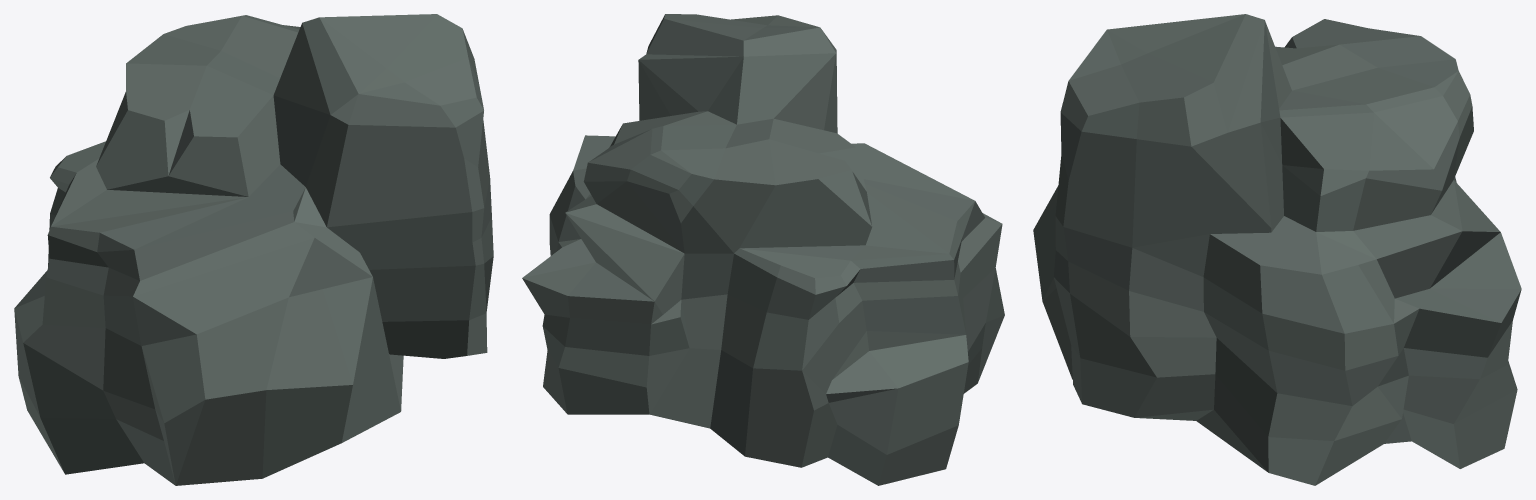
File: SM_Rock_B.glb
3 views of the same model, side by side, from view 1: azimuth 30°, elevation 25°; view 2: azimuth 150°, elevation 25°; view 3: azimuth 270°, elevation 25° (orthographic). The views are drawn at different scales.
Parts seen in each view (by area): view 1: SM_Rock_B; view 2: SM_Rock_B; view 3: SM_Rock_B.
Boxes of the visible parts, x1,y1,x2,y2 form: SM_Rock_B: [14, 14, 493, 485]; SM_Rock_B: [522, 14, 1004, 485]; SM_Rock_B: [1033, 14, 1521, 485].
Size of the model in its own units: 7.96 by 6.74 by 6.56.
1 material, 1 textured.
